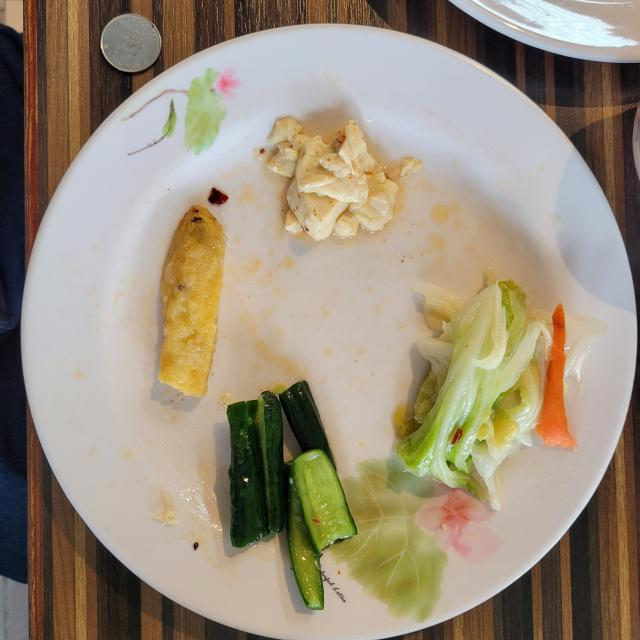cabbage: (395, 271, 606, 510)
coin: (100, 14, 161, 72)
cucumber: (279, 380, 358, 610), (228, 392, 285, 548)
